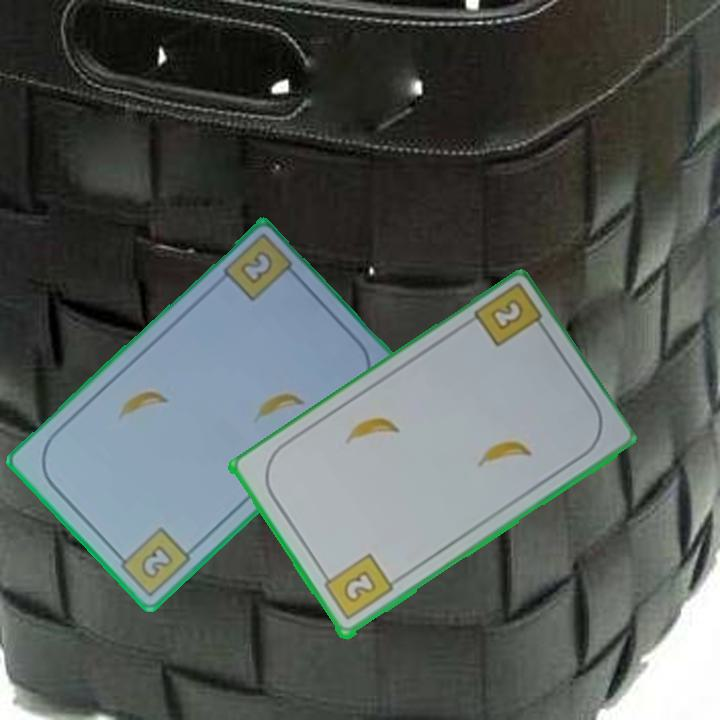2b: (110, 524, 194, 599), (317, 551, 396, 624), (236, 247, 276, 288), (486, 295, 527, 334)
